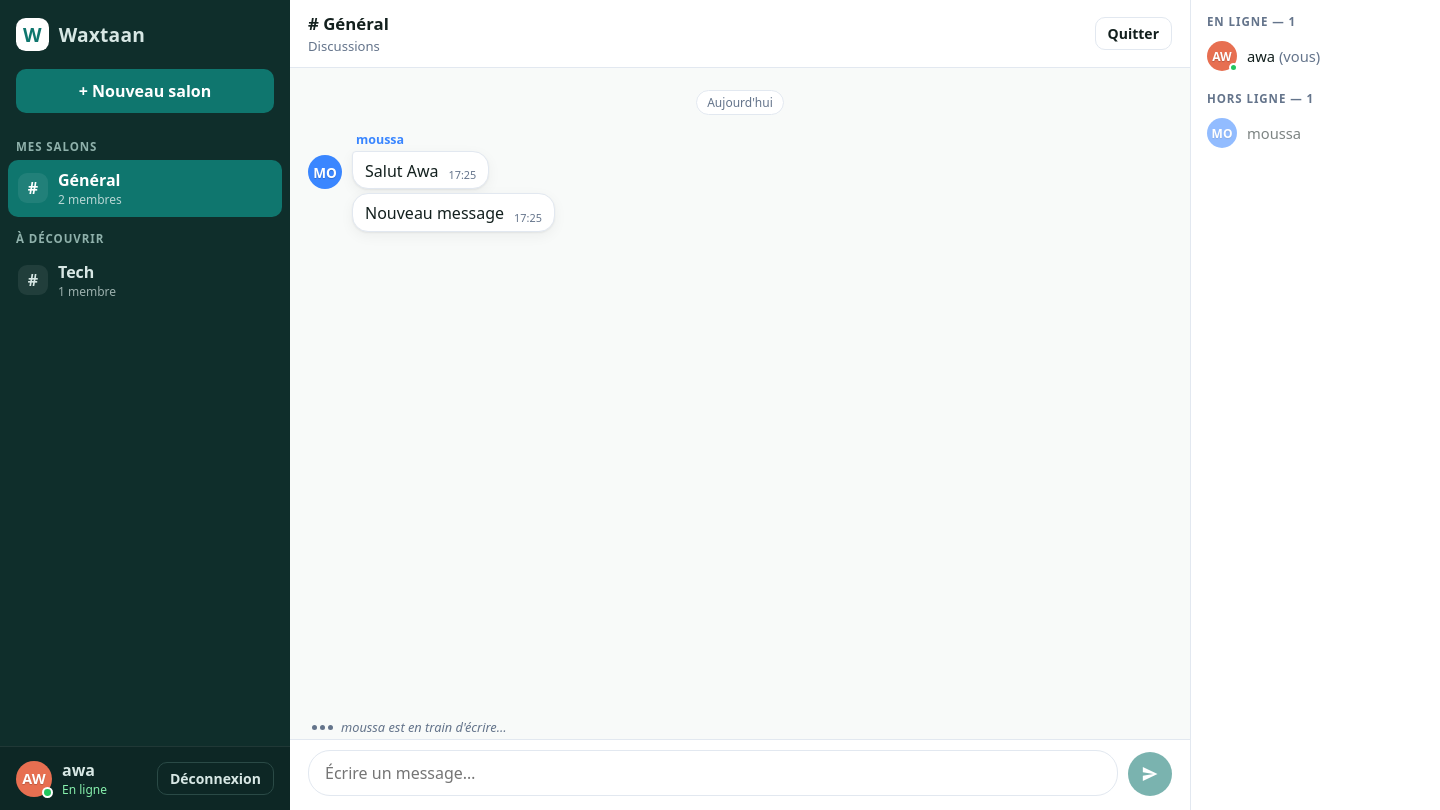
it: ChatPage › affiche le salon, l’historique, les messages temps réel et l’indicateur de saisie
The width and height of the screenshot is (1440, 810).
expect the text "Salut Awa" is shown: met, box [365, 160, 438, 182]
expect the heading "# Général" is shown: met, box [308, 12, 389, 35]
In the text box labelled "message": (713, 773) [308, 750, 1118, 796], type "Je réponds"
Then press Enter
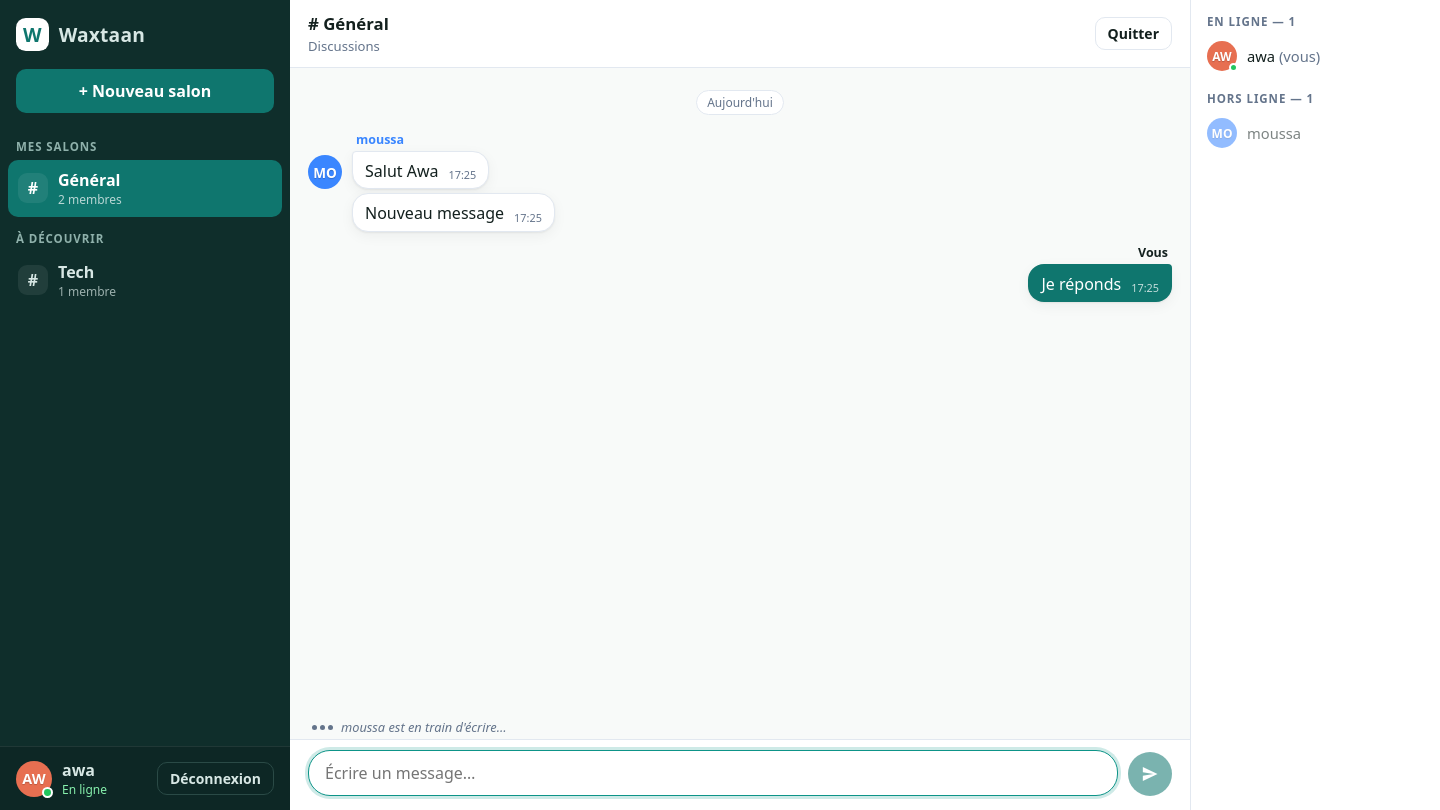
expect the text "Je réponds" is shown: met, box [1041, 273, 1121, 295]
